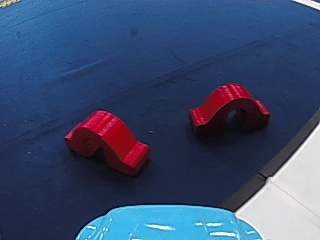bridge: (67, 107, 154, 178), (185, 80, 273, 136)
